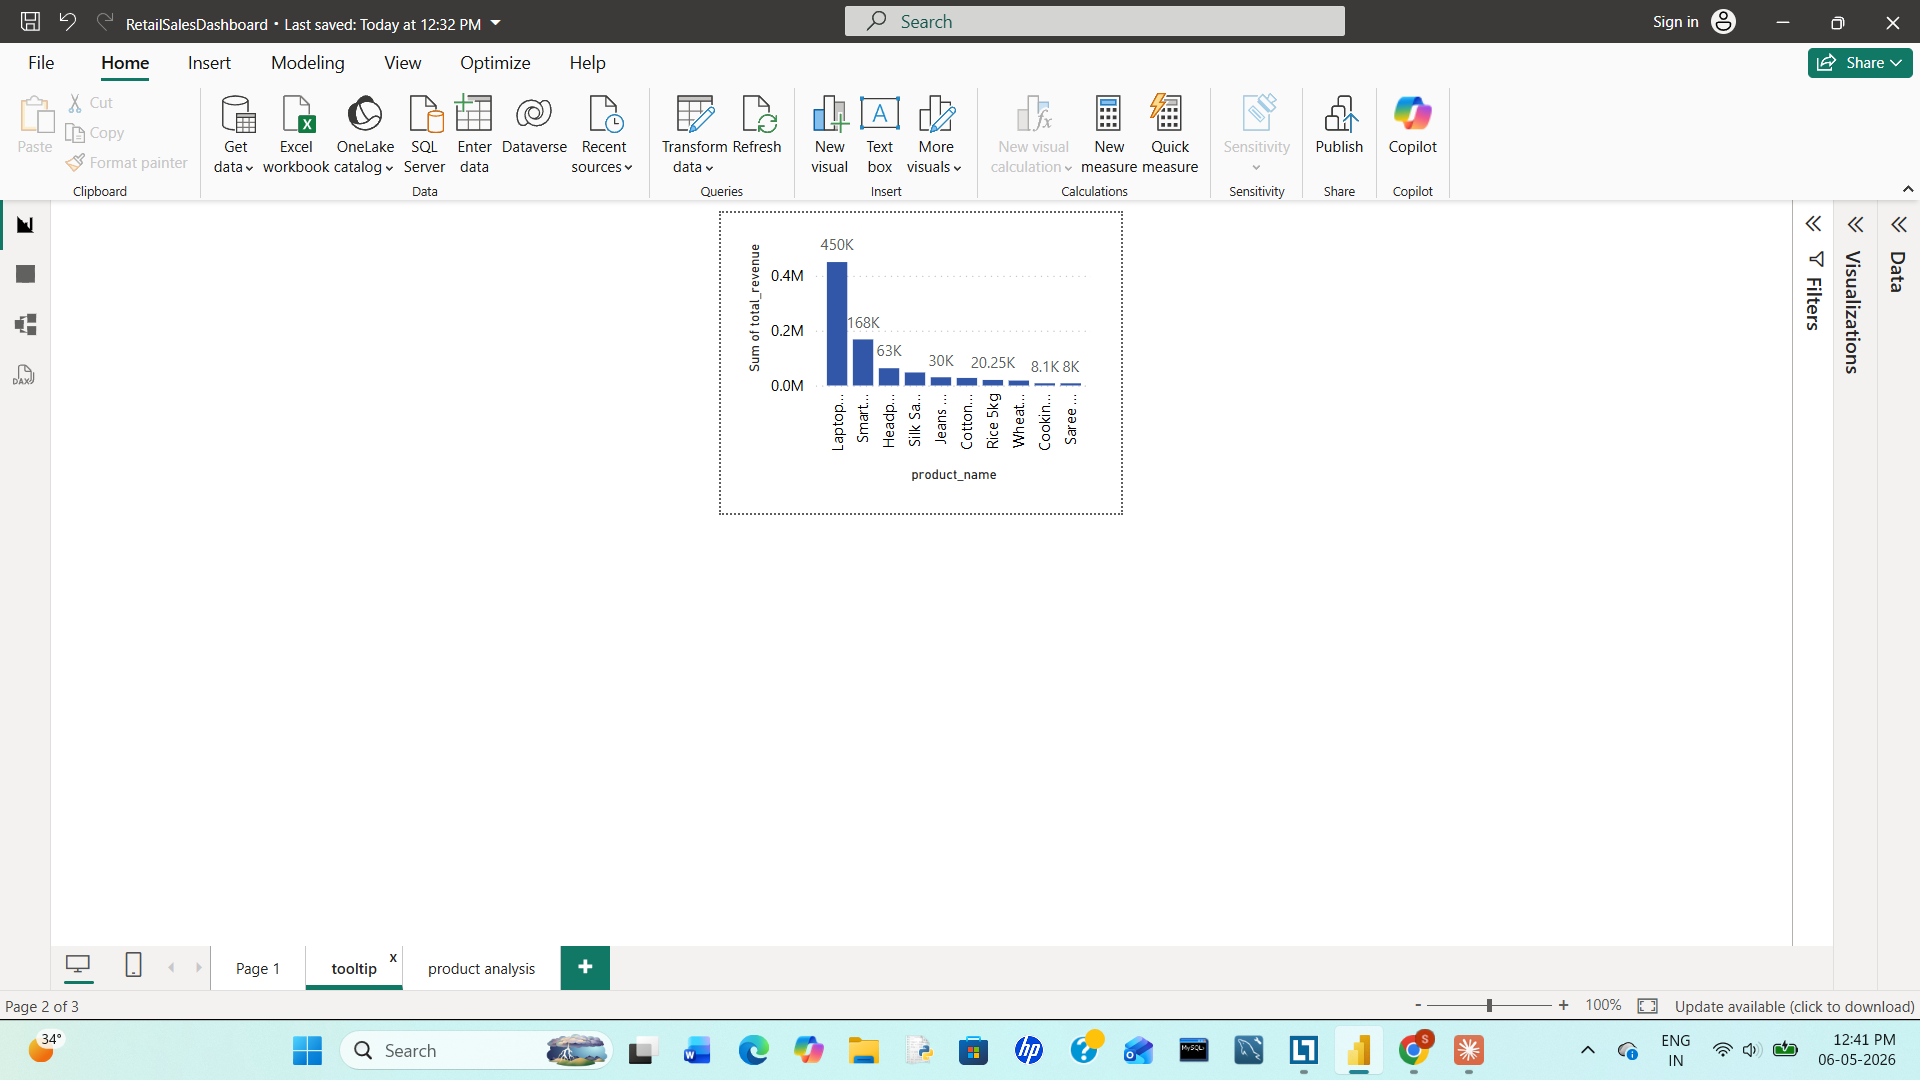

The dashboard page shown, as its layout file describes it:
{"tool":"powerbi","page":{"name":"tooltip","canvas":[320,240],"ordinal":1},"visuals":[{"type":"columnChart","fields":{"Category":["vw_daily_sales_summary.product_name"],"Y":["Sum(vw_daily_sales_summary.total_revenue)"]},"box":[16,0,285,220],"z":0}]}

Visuals, with their boxes on the page's 320x240 design canvas (x1, y1, x2, y2). These are canvas units, not pixel positions in the 1920x1080 screenshot, which may show the page scaled, cropped or inside an application window:
columnChart - vw_daily_sales_summary.product_name x Sum(vw_daily_sales_summary.total_revenue): [left=16, top=0, right=301, bottom=220]
